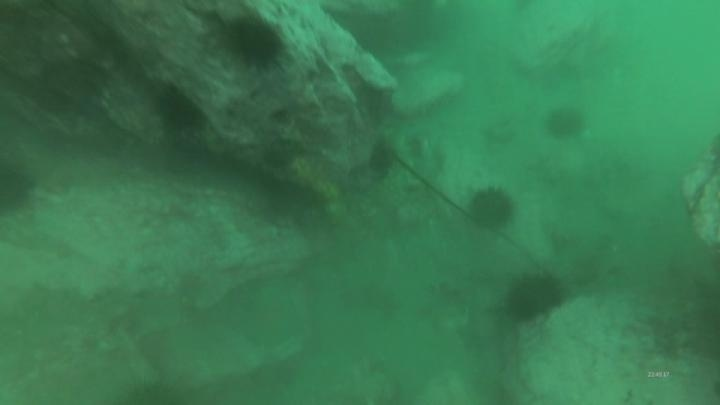echinus: (501, 269, 567, 325), (225, 16, 287, 73), (154, 85, 206, 135), (466, 184, 517, 233), (0, 159, 37, 216), (542, 104, 588, 142), (365, 136, 398, 179)
